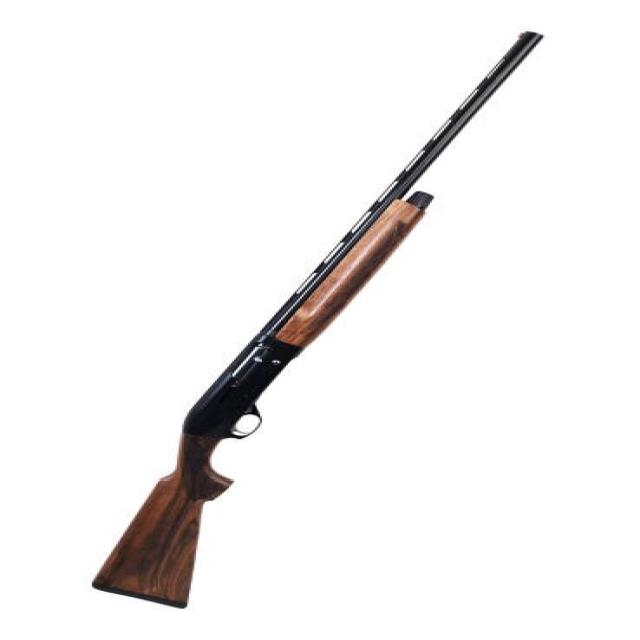rifle: (79, 25, 555, 617)
